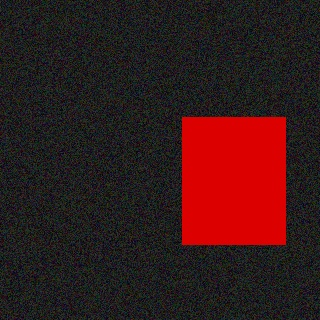red_barrel: (183, 117, 286, 245)
